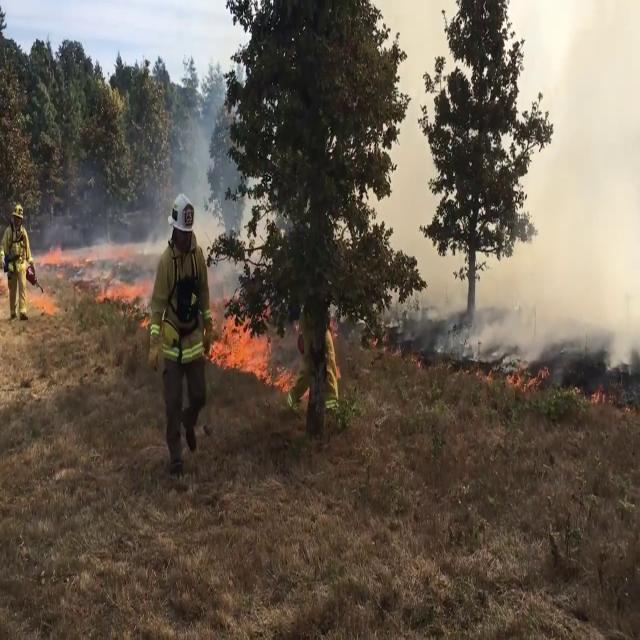Fire: (208, 310, 282, 384), (101, 255, 155, 332)
Smoke: (446, 1, 640, 377)
